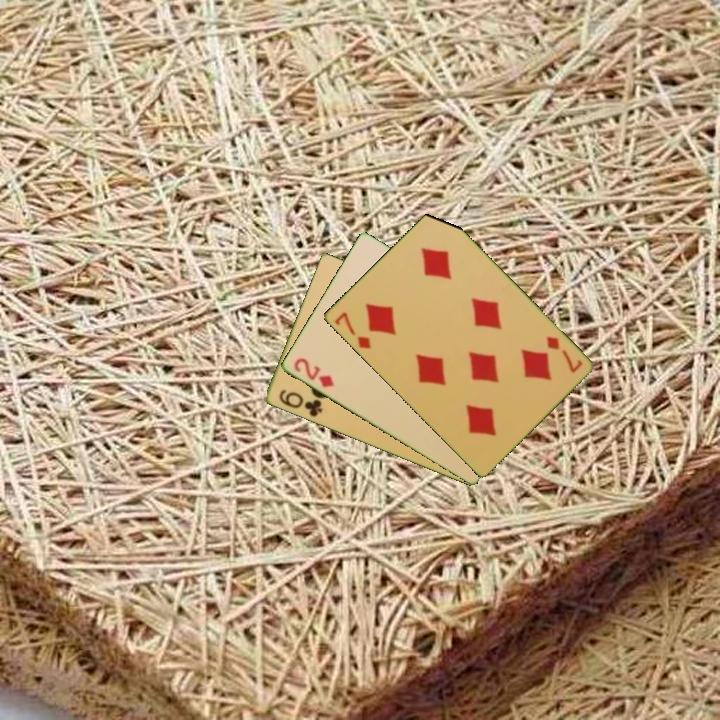2d: (290, 354, 337, 391)
6c: (275, 386, 325, 420)
7d: (331, 308, 374, 352), (542, 333, 585, 376)
